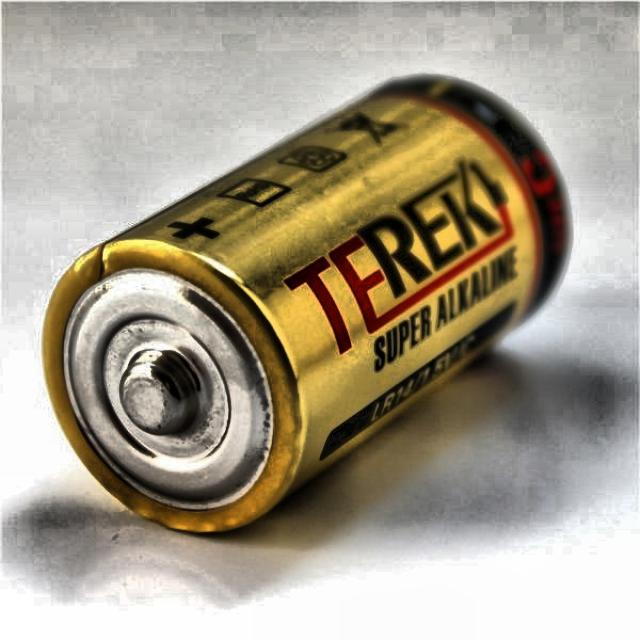Non-Valuable Waste - Batteries: (44, 79, 568, 532)
